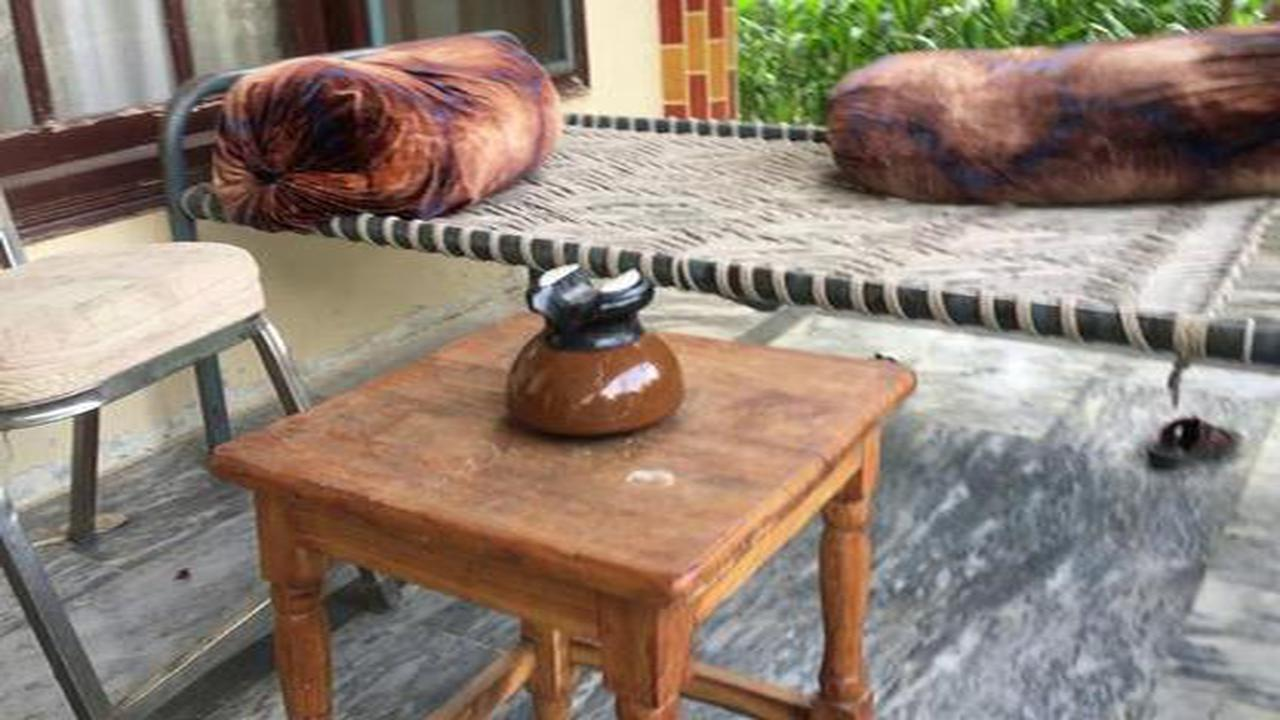insulator_pin: (490, 248, 690, 449)
